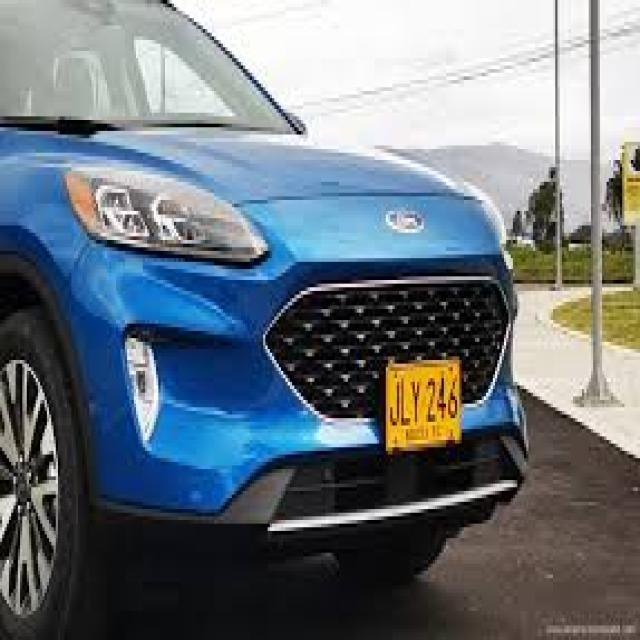placa_carro: (386, 354, 467, 457)
